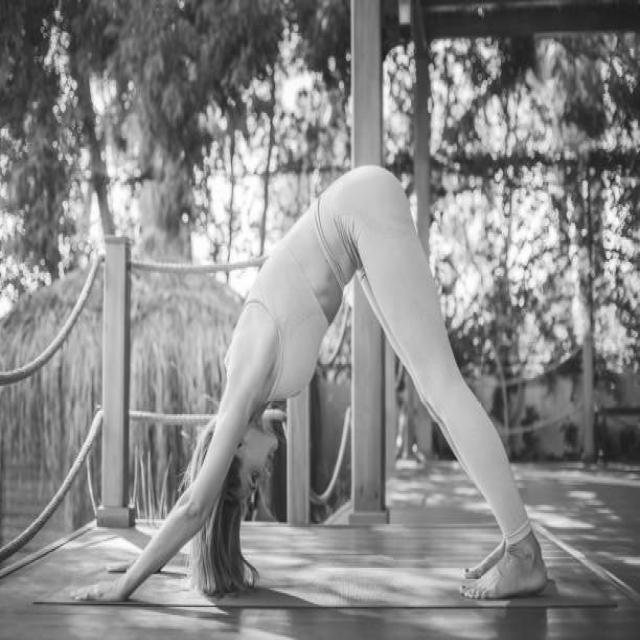Downward-Facing_Dog: (66, 157, 553, 615)
